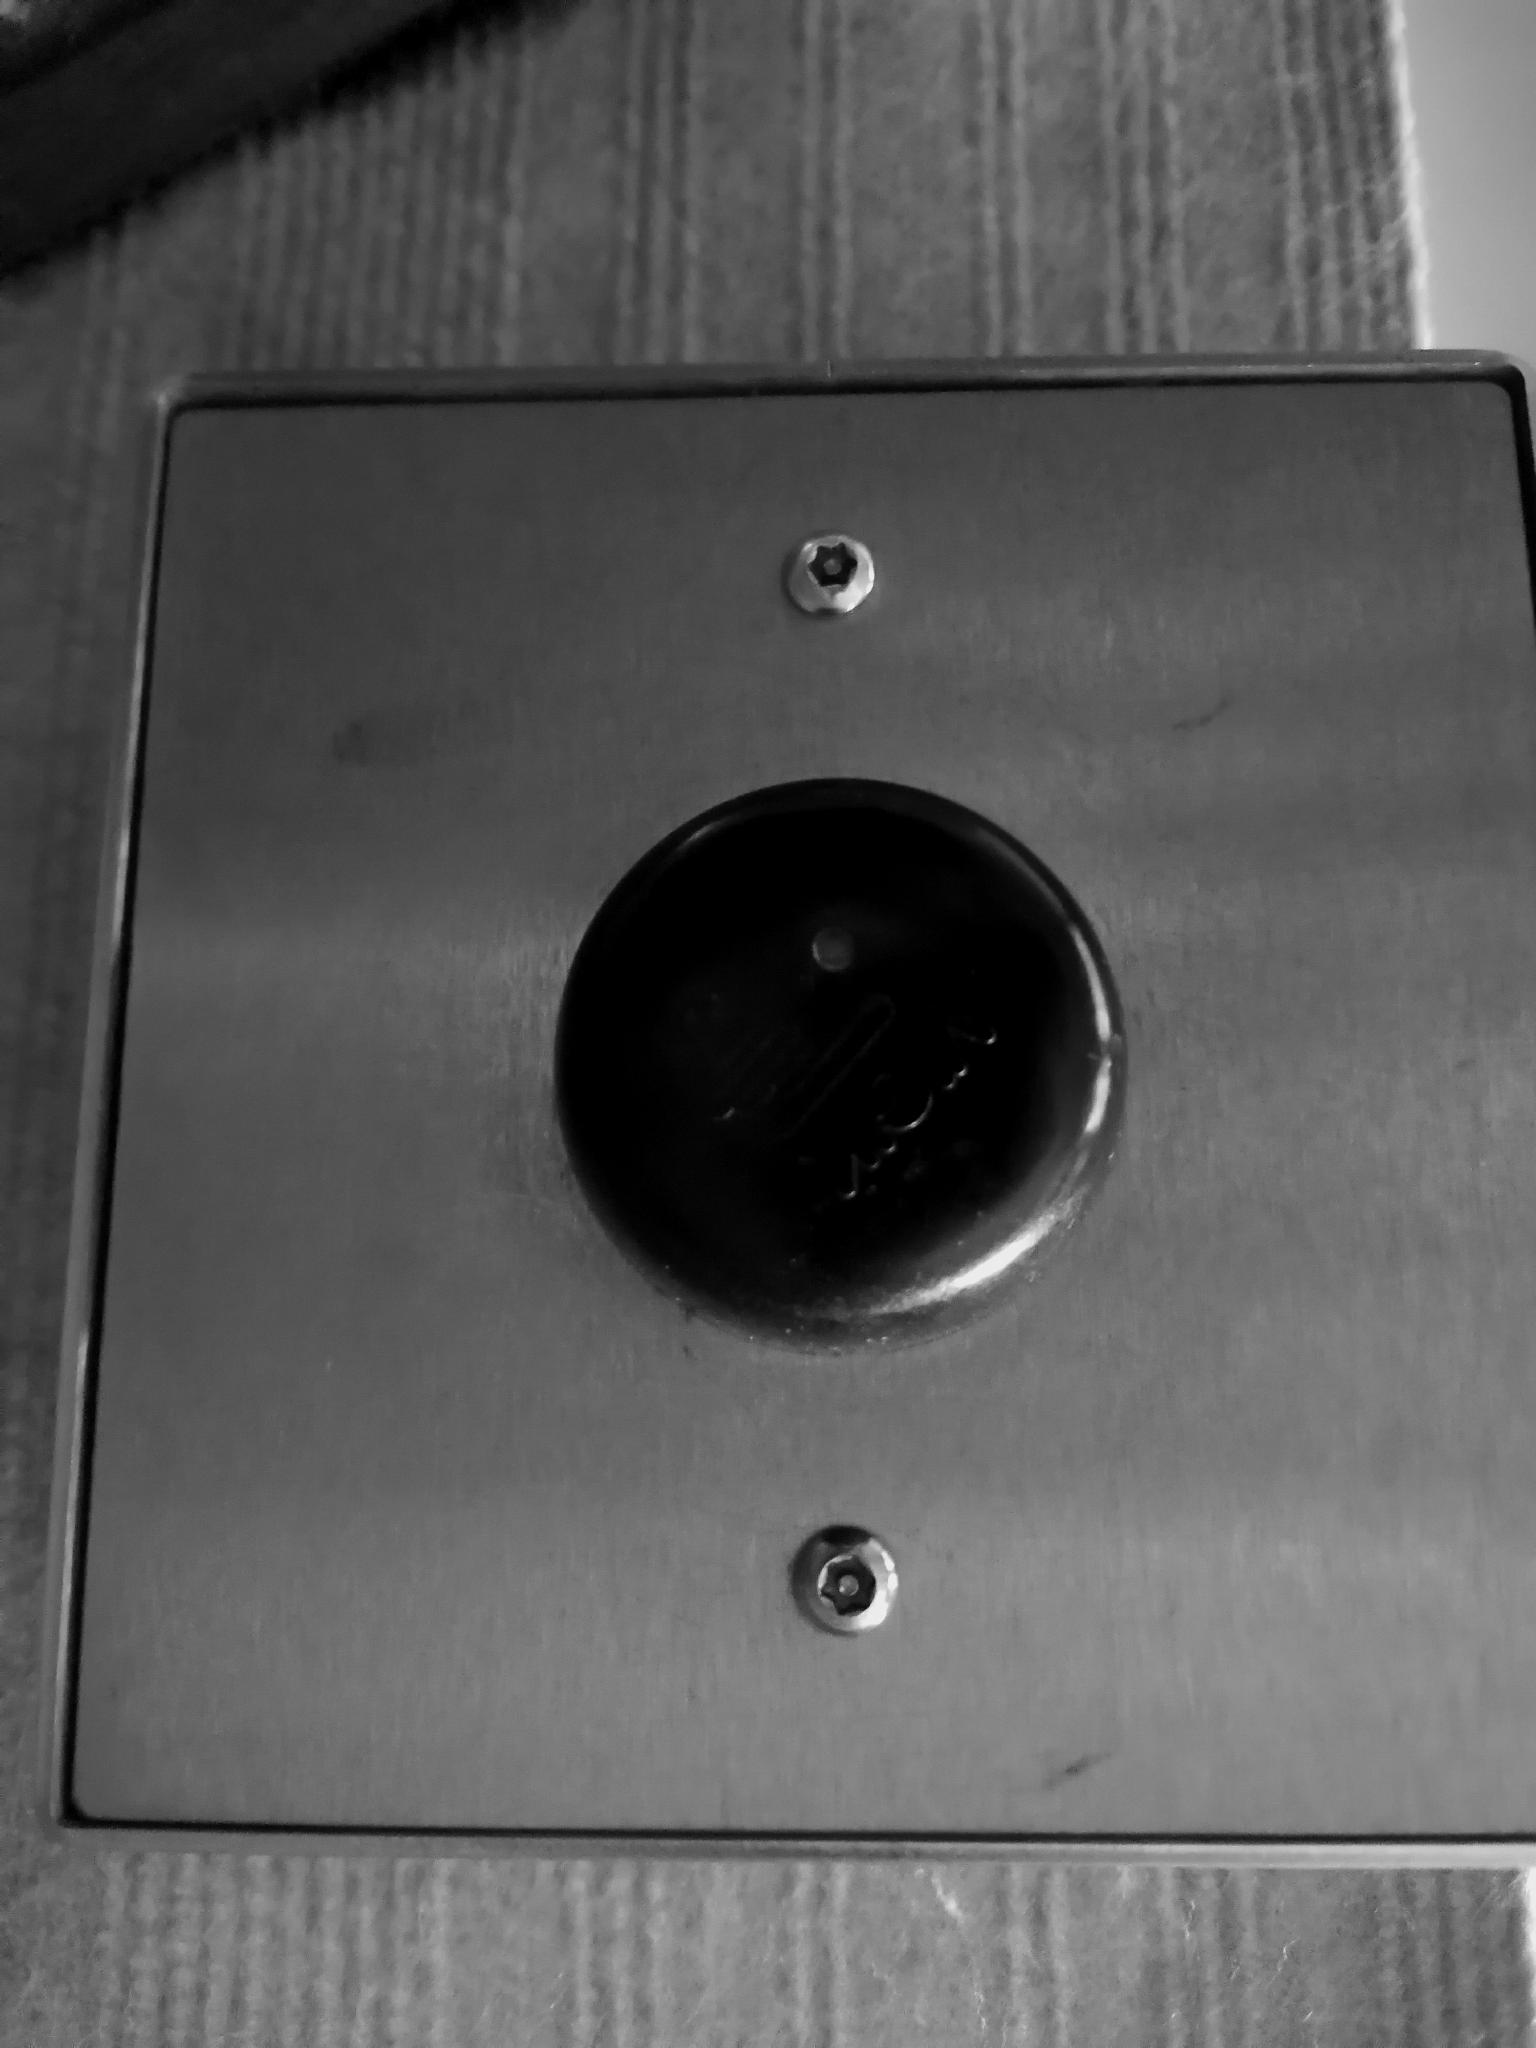allen: (787, 1521, 910, 1637), (779, 518, 884, 618)
